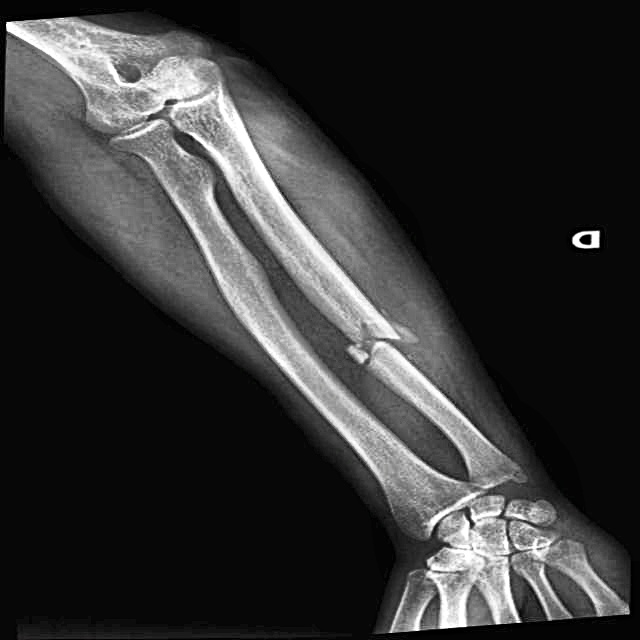Comminuted: (316, 303, 458, 387)
